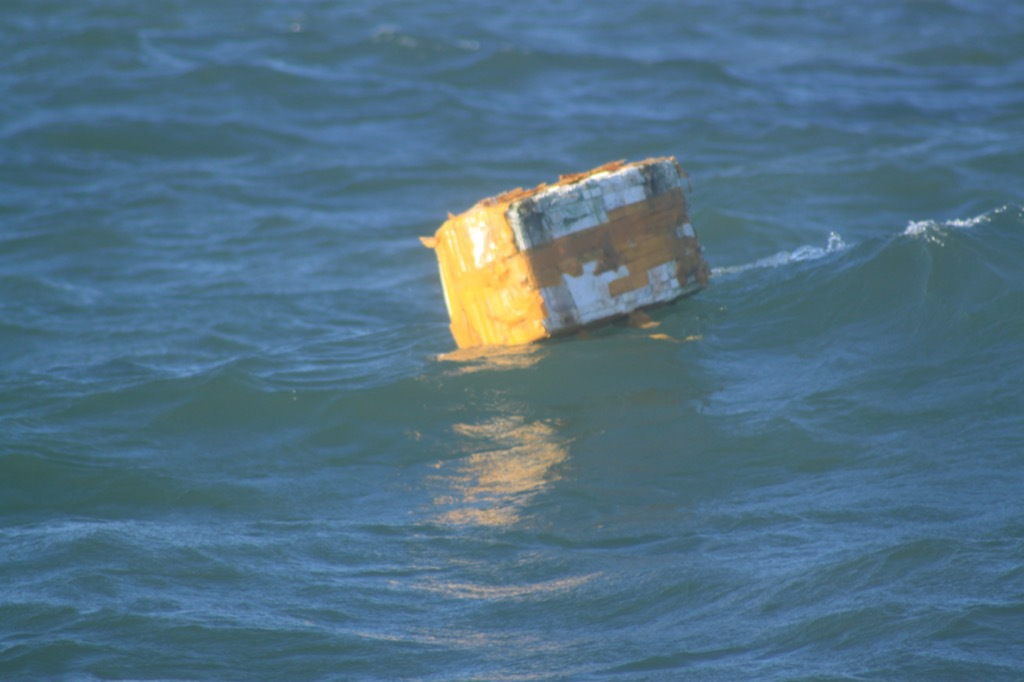plastic: (276, 136, 735, 682)
